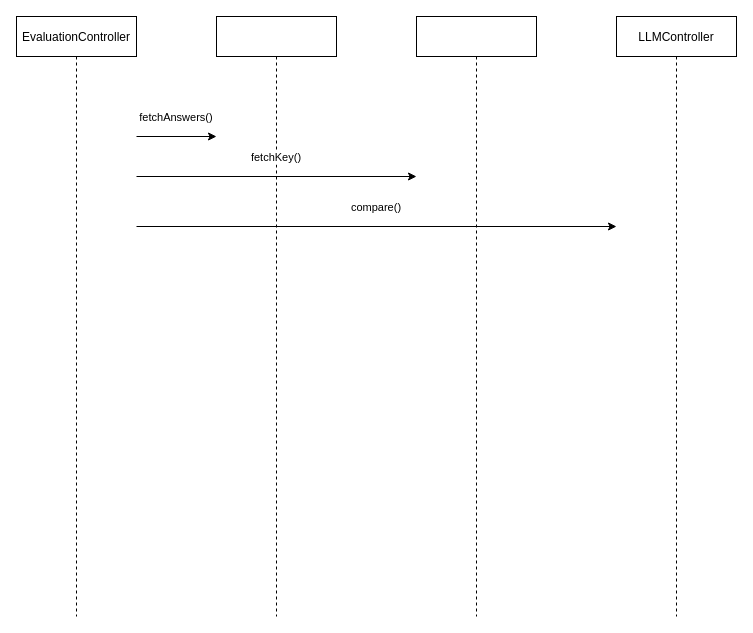
The diagram is 753 pixels wide and 633 high, and some of its shapes have lost their labels. The box of each missing label's shape, as (x1, y1, x2, y2) in pixels:
AnswerKey: (416, 16, 536, 616)
StudentSubmission: (216, 16, 336, 616)
